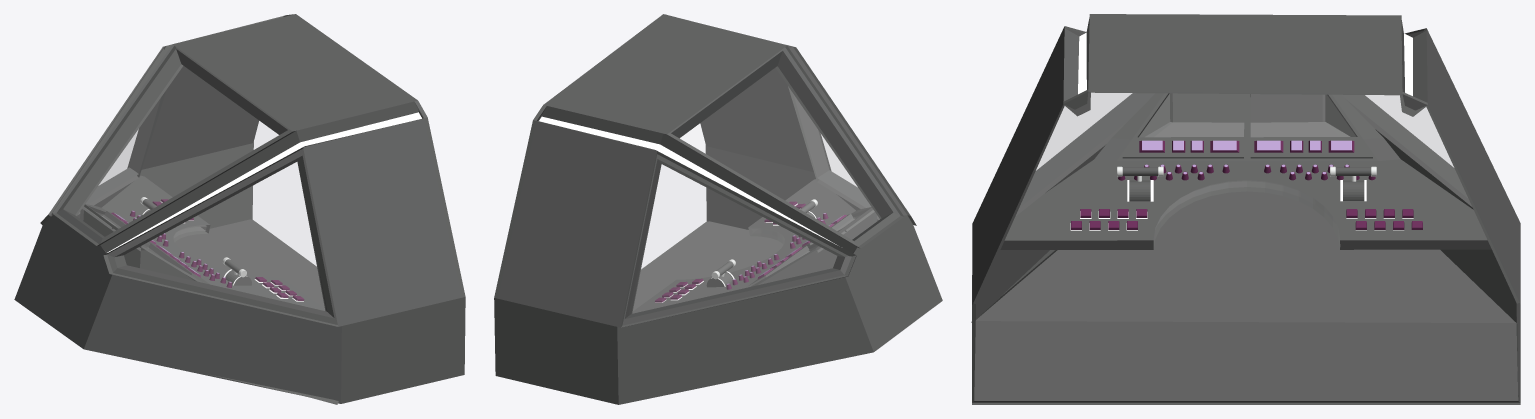
The model's file is Cabina_01.fbx.
The picture shows the model from 3 angles, left to right: view 1: azimuth 30°, elevation 25°; view 2: azimuth 150°, elevation 25°; view 3: azimuth 270°, elevation 25°; orthographic projection. The views are drawn at different scales.
Parts seen in each view (by area): view 1: CABINA, MESA, Deck; view 2: CABINA, MESA, Deck; view 3: CABINA, MESA, DeckSCREEN, Deck, BasePropulsor, PALANCA, Dimmer, Dimmer.001.
Part boxes in pixels (box(x1,y1,x2,y2)): CABINA: box(14, 14, 465, 404); MESA: box(80, 175, 325, 310); Deck: box(152, 199, 304, 301); CABINA: box(494, 14, 942, 404); MESA: box(632, 179, 877, 313); Deck: box(655, 201, 805, 302); CABINA: box(971, 14, 1520, 404); MESA: box(1000, 93, 1491, 249); DeckSCREEN: box(1139, 140, 1354, 152); Deck: box(1070, 209, 1422, 230); BasePropulsor: box(1127, 180, 1366, 201); PALANCA: box(1117, 166, 1376, 176); Dimmer: box(1144, 164, 1349, 173); Dimmer.001: box(1118, 171, 1375, 180).
Size of the model in its own units: 421 by 313 by 499.
